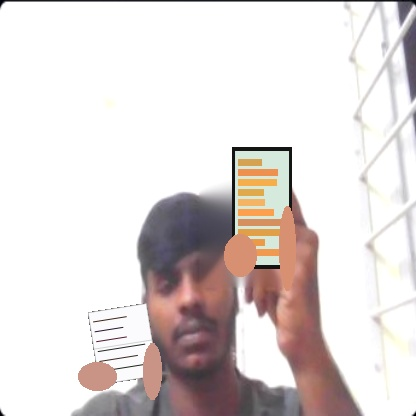cell_phone: (232, 147, 292, 269)
cheat_chit: (88, 303, 158, 385)
